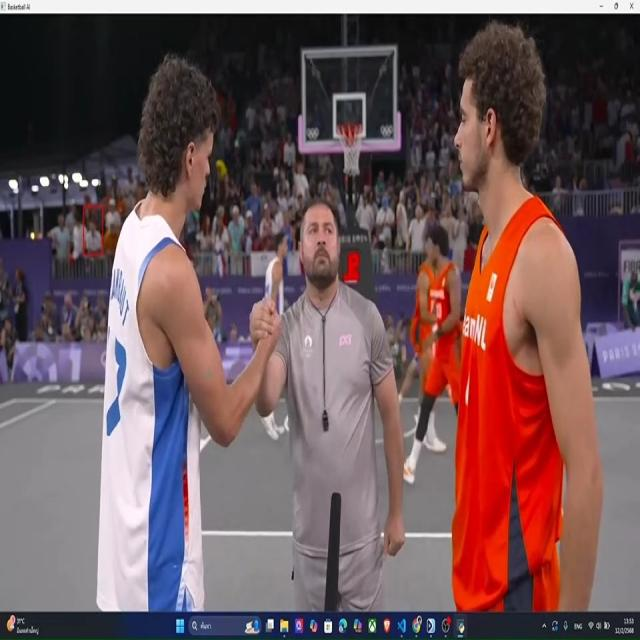hoop: (331, 119, 368, 177)
